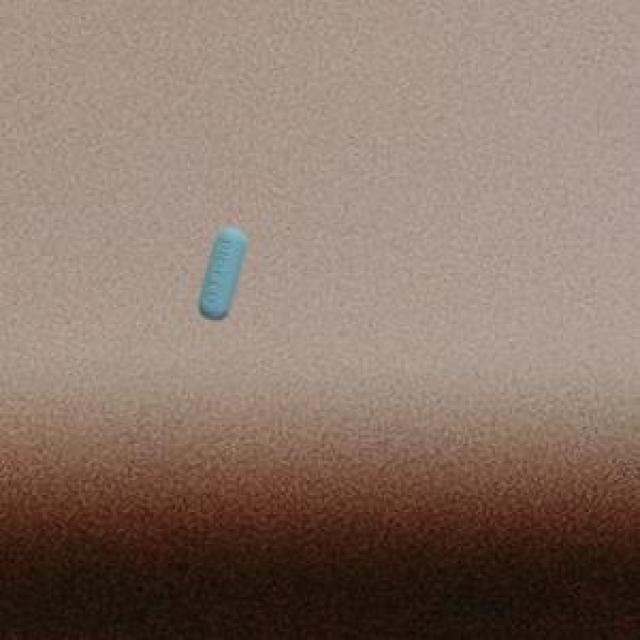Bioflu: (190, 211, 254, 329)
